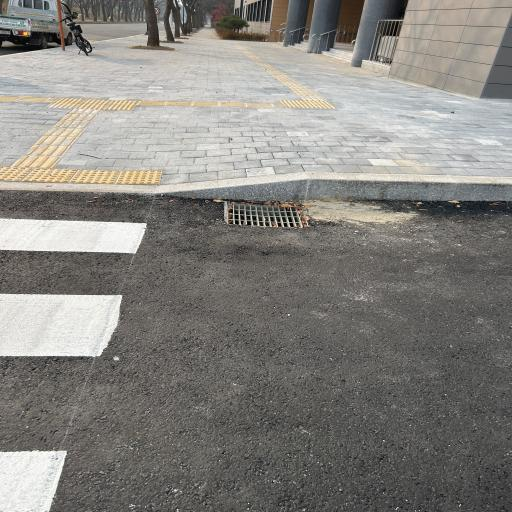drain: (225, 202, 307, 228)
